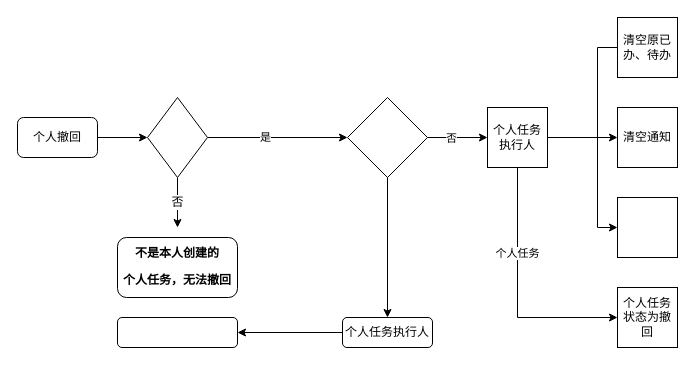
The diagram is 695 pixels wide and 365 high, and some of its shapes have lost their labels. Here are the shapes that lost their labels. From the top down, the centre of each, then its label:
At (177,137): "是否任务创建人".
At (387,137): "任务来源于部门".
At (647,227): "收到撤回通知".
At (177,332): "待办（部门任务下发的待办）".
